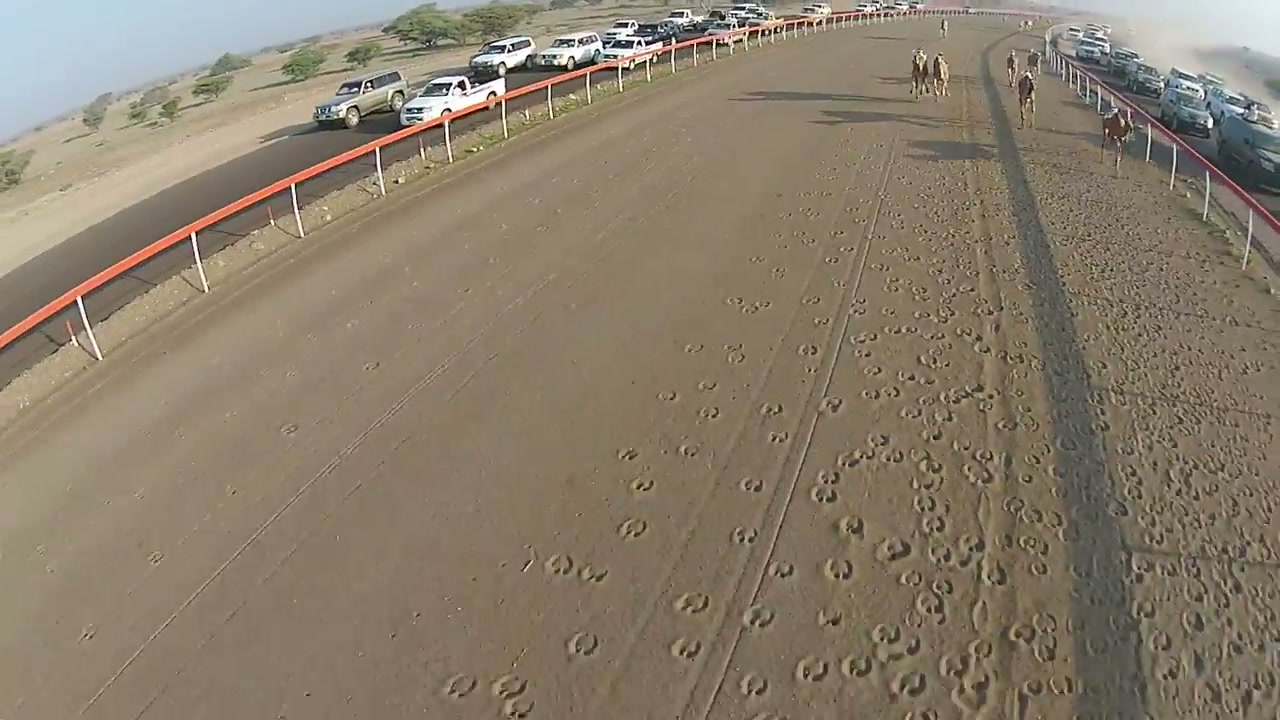animal_foot_print: (516, 98, 1279, 719), (672, 159, 1274, 719), (979, 199, 1258, 716), (742, 244, 989, 716), (593, 277, 852, 682), (744, 514, 923, 692), (544, 433, 704, 607), (616, 377, 732, 540), (441, 672, 535, 719), (441, 673, 534, 719), (541, 553, 609, 588), (951, 661, 995, 712), (826, 514, 873, 559), (912, 473, 949, 514), (936, 651, 976, 685), (915, 589, 947, 625), (889, 671, 927, 698), (840, 652, 876, 680), (490, 674, 527, 700), (794, 656, 831, 682), (876, 537, 911, 563), (442, 674, 478, 699), (567, 632, 600, 658), (835, 515, 866, 542), (674, 592, 710, 615), (742, 605, 775, 630), (738, 672, 769, 698), (837, 447, 873, 469), (1007, 621, 1037, 647), (671, 636, 702, 661), (501, 696, 534, 719), (916, 451, 945, 476), (823, 558, 854, 581), (543, 554, 575, 576), (870, 623, 902, 645), (617, 518, 648, 539), (817, 606, 844, 630), (810, 483, 839, 505), (577, 564, 608, 584), (628, 475, 655, 496), (766, 560, 795, 579), (739, 299, 772, 315), (731, 526, 758, 545), (677, 442, 702, 460), (790, 228, 815, 246), (725, 344, 746, 364), (877, 448, 905, 463), (899, 570, 923, 587), (816, 469, 841, 485), (739, 478, 765, 492), (867, 433, 891, 448), (822, 396, 843, 413), (849, 332, 878, 344), (794, 231, 817, 246), (760, 402, 782, 417), (698, 405, 720, 420), (749, 711, 788, 719), (767, 431, 790, 444), (79, 624, 95, 642), (617, 448, 639, 461), (801, 294, 823, 307), (846, 303, 866, 317), (697, 379, 718, 392), (280, 423, 301, 436), (657, 390, 679, 402), (798, 344, 820, 356), (799, 207, 820, 219), (147, 550, 163, 565), (725, 296, 745, 307), (770, 266, 786, 279), (684, 343, 704, 353), (812, 317, 832, 327), (750, 255, 767, 263), (772, 232, 786, 240)
